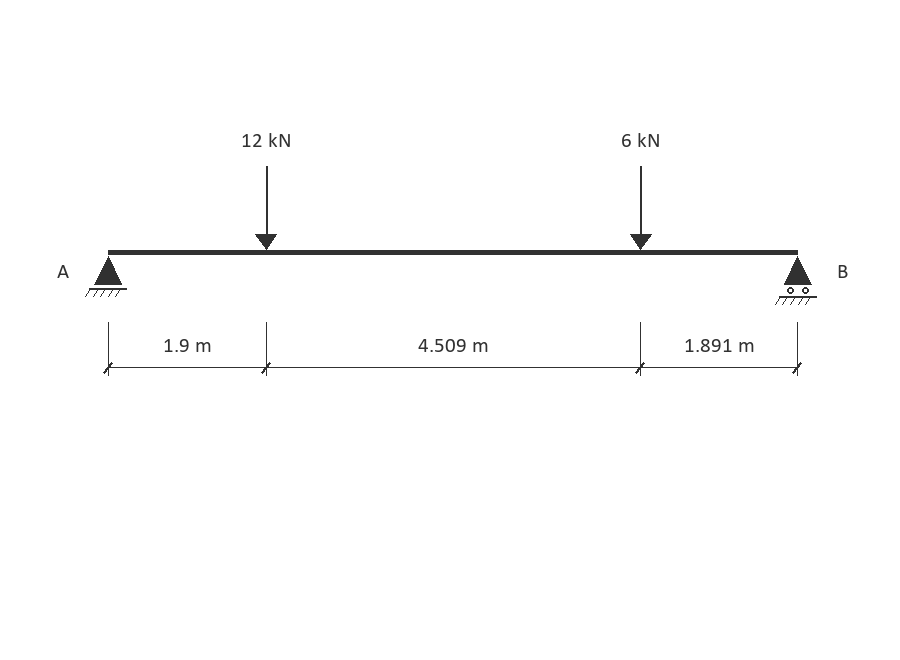pin_support: (85, 256, 127, 297)
point_load: (255, 166, 277, 250), (630, 166, 652, 250)
roller_support: (775, 256, 817, 305)
